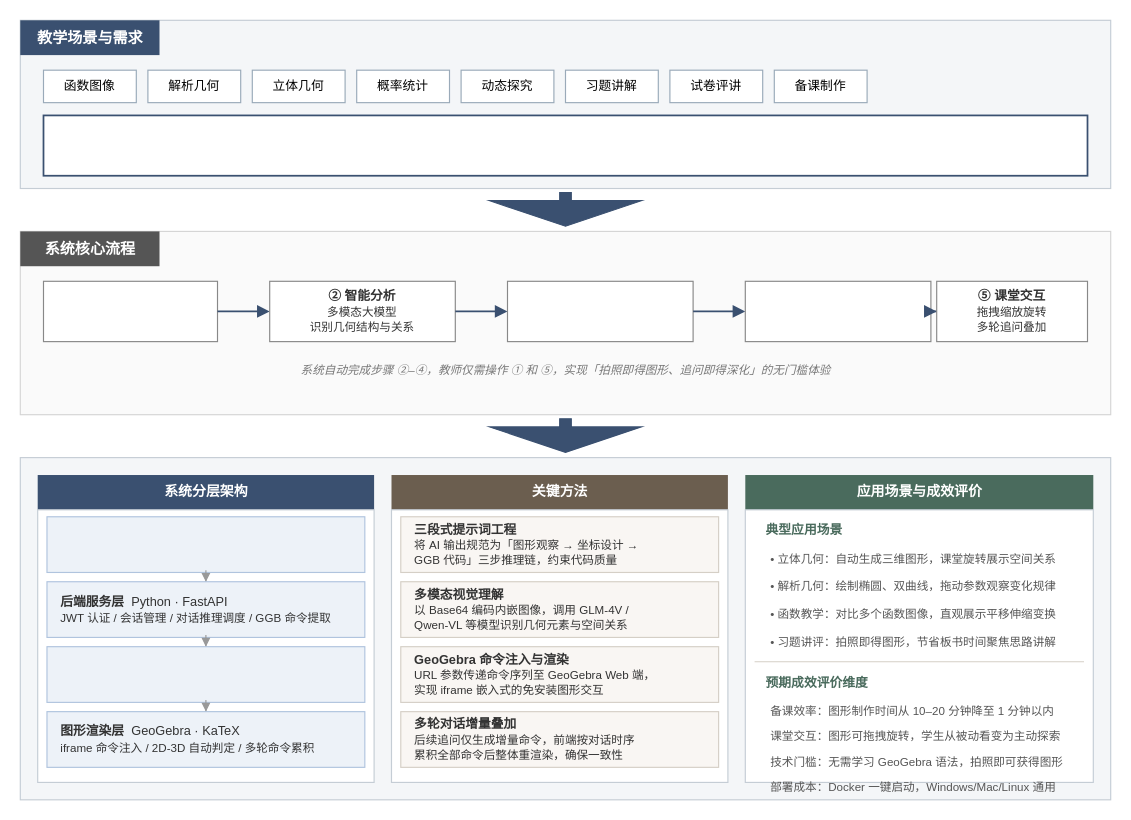
The diagram is 1131 pixels wide and 820 high, and some of its shapes have lost their labels. Here are the shapes that lost their labels. From the top down, the centre of each, then its label:
pixel 565 145: 核心困境 板书手绘精度有限、静态图示无法交互、GeoGebra 等专业工具学习门槛高 教师难以在备课时间内，将题目中的几何图形转化为可展示给学生的动态可视化素材
pixel 129 311: ① 图像上传 教师拍照/截图 拖拽或粘贴提交
pixel 599 311: ③ 代码生成 输出 GeoGebra 绘图命令序列
pixel 837 311: ④ 图形渲染 浏览器内嵌 GeoGebra 2D/3D 自动适配
pixel 205 544: 前端交互层 React · TypeScript 图像上传 / 对话面板 / GeoGebra 查看器 / LaTeX 渲染
pixel 205 674: AI 推理层 OpenAI 兼容接口 三段式提示词 / 多模态视觉模型 / 结构化输出解析
